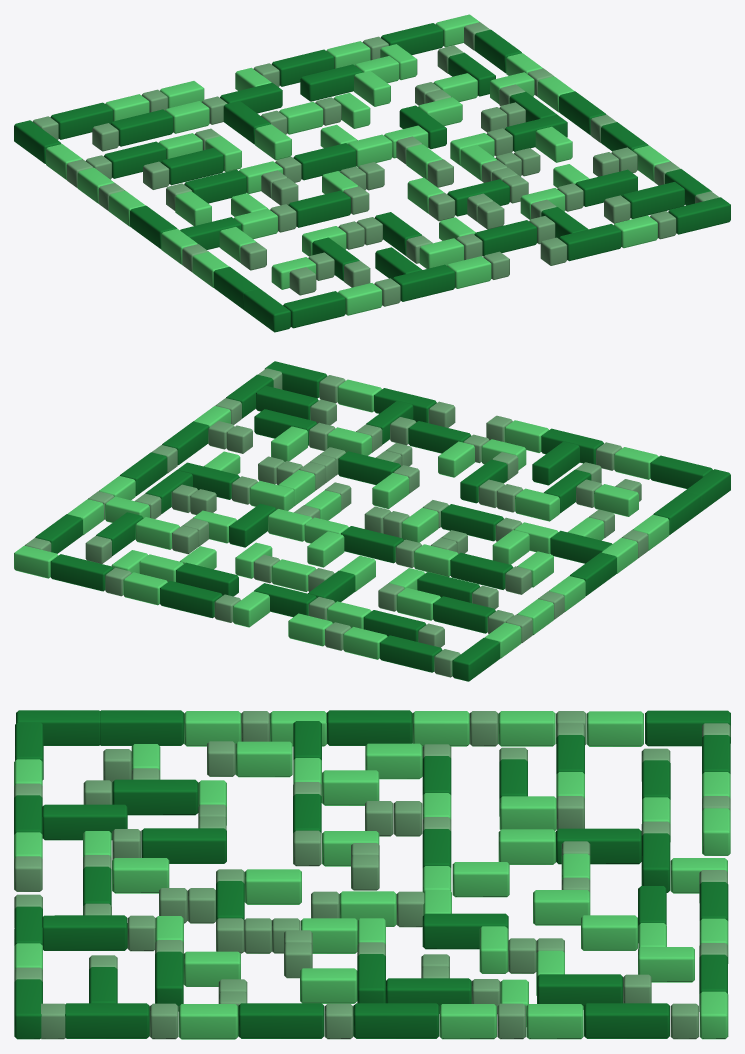
The model's file is SM_Maze_05a.fbx.
The picture shows the model from 3 angles, top to bottom: view 1: azimuth 30°, elevation 25°; view 2: azimuth 150°, elevation 25°; view 3: azimuth 270°, elevation 25°; orthographic projection. The views are drawn at different scales.
Visible parts, largest first — view 1: cespuglio_low2, cespuglio_low4, cespuglio_low5; view 2: cespuglio_low2, cespuglio_low4, cespuglio_low5; view 3: cespuglio_low2, cespuglio_low4, cespuglio_low5.
Boxes of the visible parts, <box> form: cespuglio_low2: <box>14,23,730,332</box>; cespuglio_low4: <box>46,14,670,315</box>; cespuglio_low5: <box>32,22,719,306</box>; cespuglio_low2: <box>35,361,730,681</box>; cespuglio_low4: <box>14,379,669,659</box>; cespuglio_low5: <box>25,368,648,677</box>; cespuglio_low2: <box>14,710,730,1039</box>; cespuglio_low4: <box>14,711,730,1039</box>; cespuglio_low5: <box>14,711,730,1039</box>.
Size of the model in its own units: 2523 by 102 by 2504.
